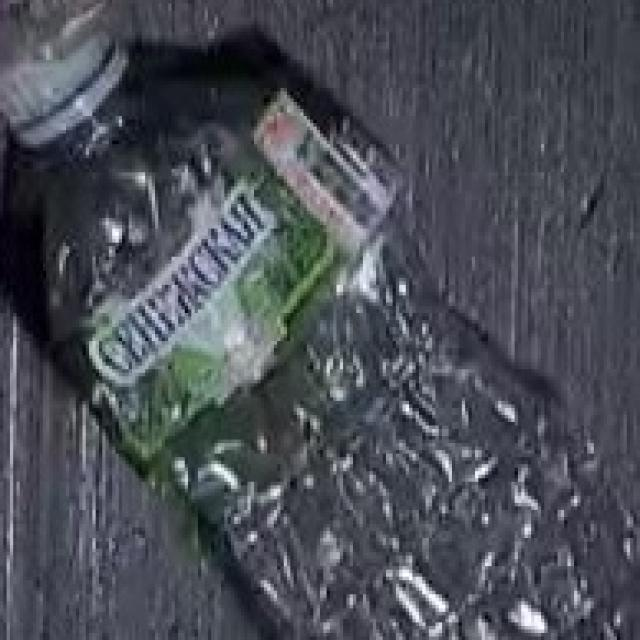litter: (3, 7, 640, 637)
